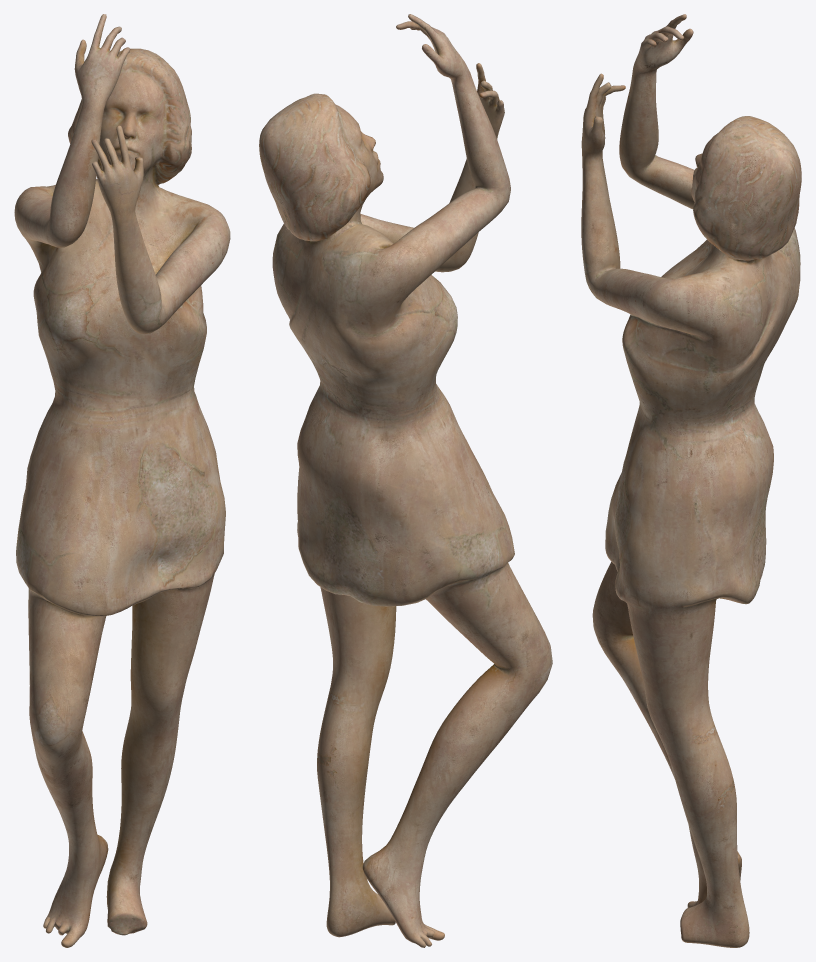
The model's file is greek_underwater_broken_statue_3.glb.
The picture shows the model from 3 angles, left to right: view 1: azimuth 30°, elevation 25°; view 2: azimuth 150°, elevation 25°; view 3: azimuth 270°, elevation 25°; orthographic projection.
Visible parts, largest first — view 1: mesh_low; view 2: mesh_low; view 3: mesh_low.
Boxes of the visible parts, x1,y1,x2,y2 form: mesh_low: [14, 14, 230, 947]; mesh_low: [259, 14, 552, 947]; mesh_low: [581, 14, 801, 947].
Bounding box in the file's own units: 0.4891 × 1.92 × 0.4198.
Materials: 3 (3 with a texture image).
